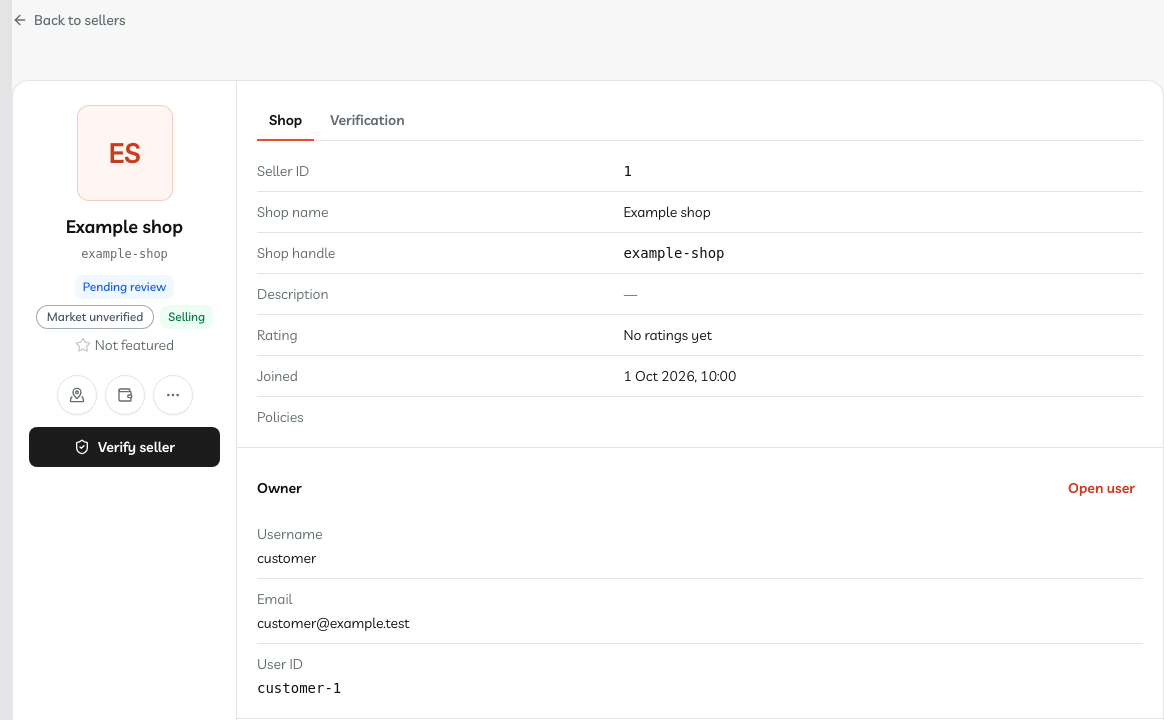
Scenario: detail permissions › shows exactly the seller actions granted to super_admin, with payout masked
Click the button named "More shop actions" at (172, 395), box [152,375,192,415]
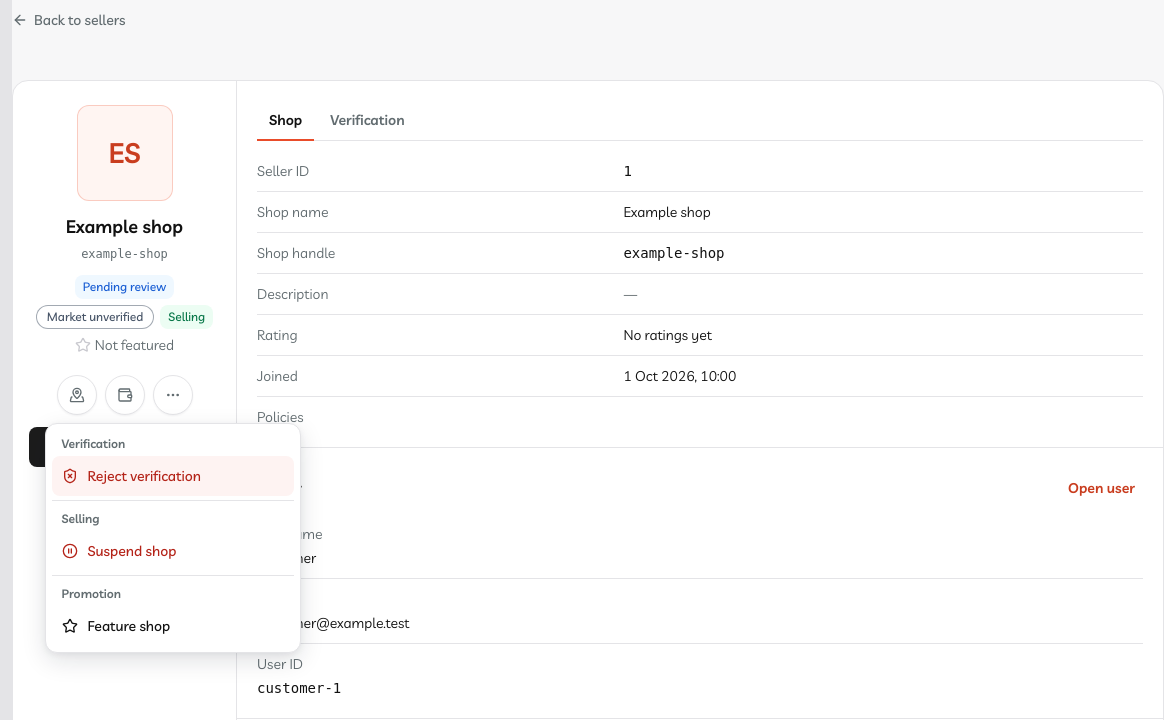
expect the menu items read "Reject verification", "Suspend shop", "Feature shop", in this order: met, box [52,456,294,496]; [52,531,294,571]; [52,606,294,646]
